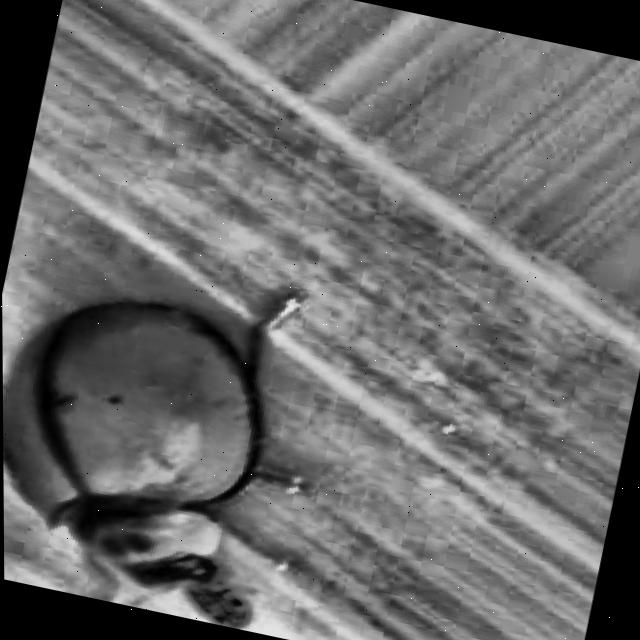Ladybug: (1, 232, 404, 640)
